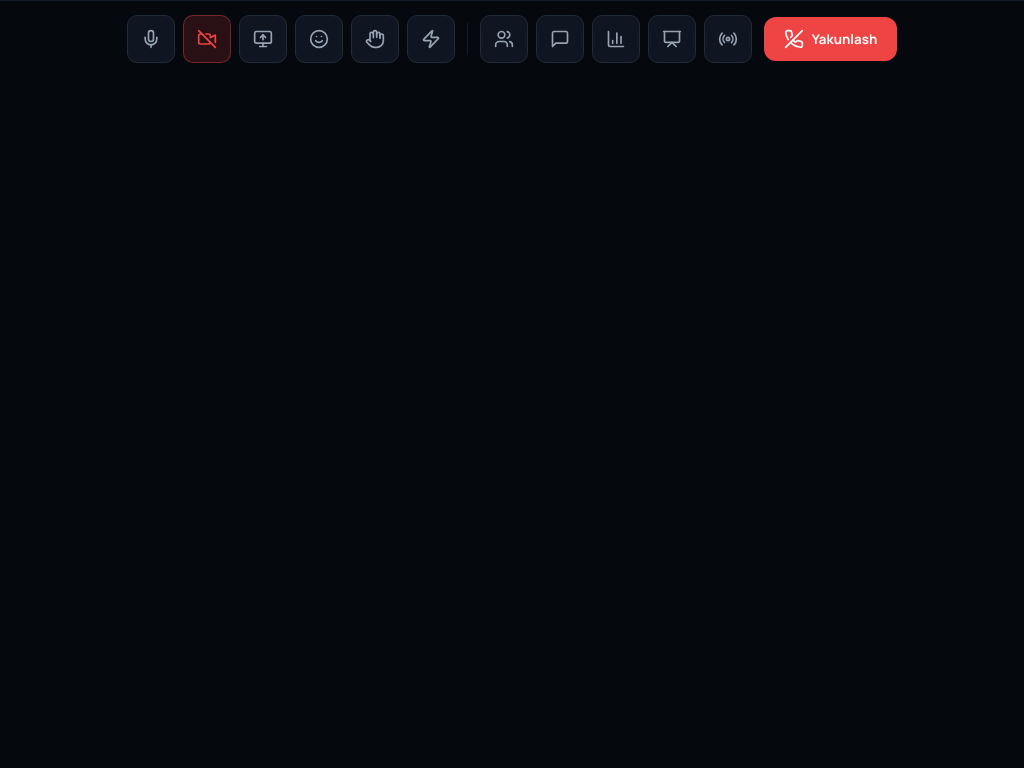
Scenario: Controls — ekran ulashish eslatmasi › «Ekran» bosilganda AVVAL eslatma chiqadi, ulashish boshlanmaydi
Click the button named "Ekran".
click(263, 38)  # box [239,14,287,62]
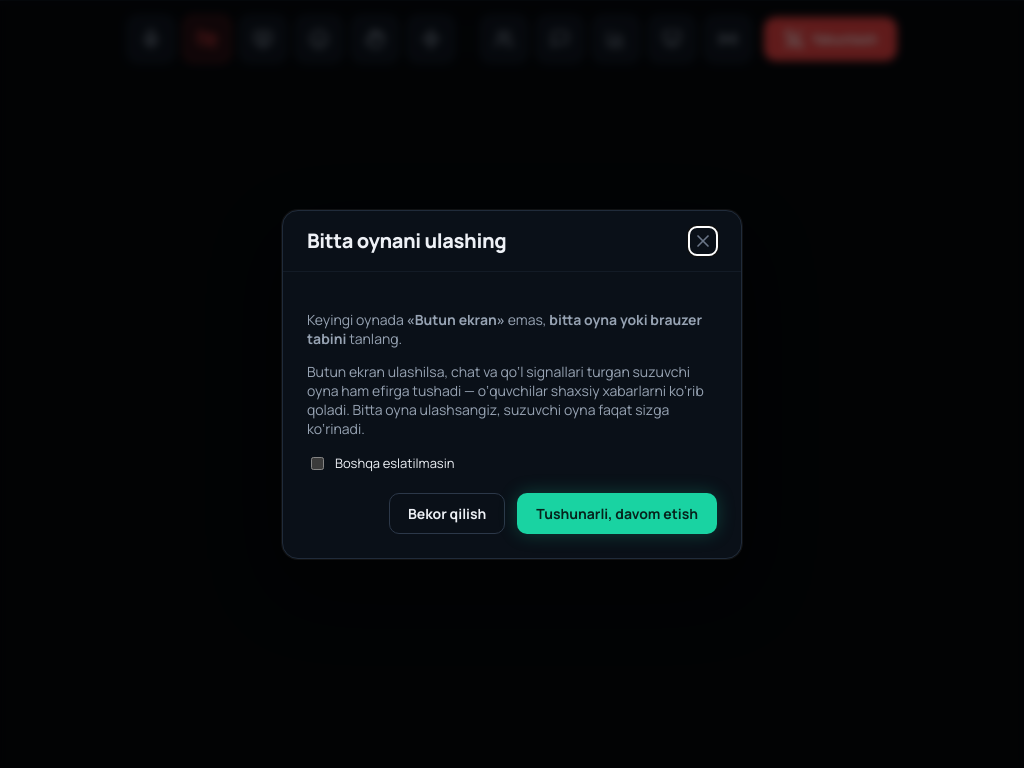
Now the heading "Bitta oynani ulashing" is shown, box [307,227,506,254]
